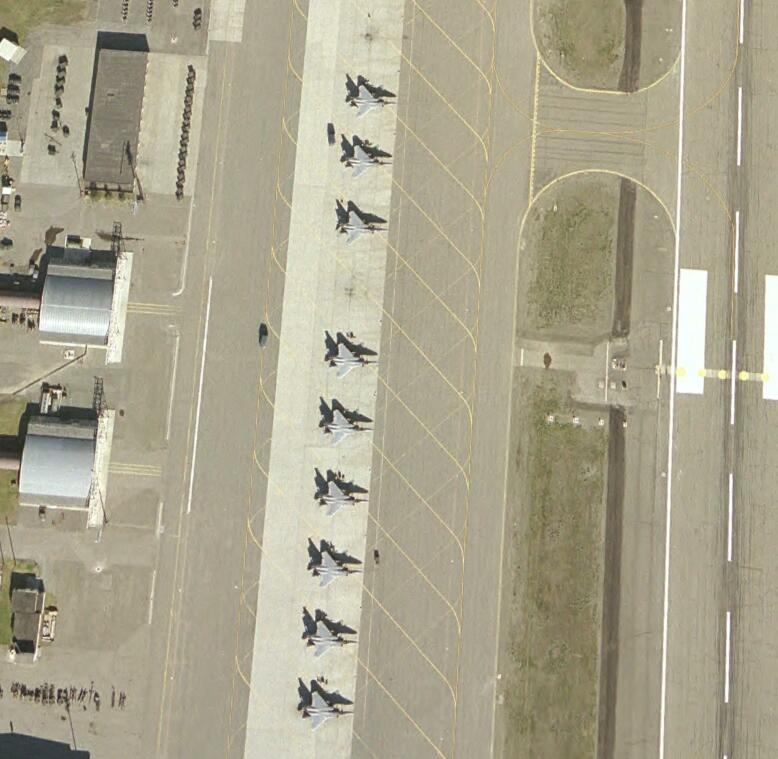A13: (296, 685, 354, 730), (308, 546, 363, 588), (301, 617, 356, 658), (319, 405, 376, 444), (325, 338, 381, 377), (315, 476, 369, 516), (334, 205, 389, 244), (339, 141, 394, 178), (344, 80, 397, 118)
